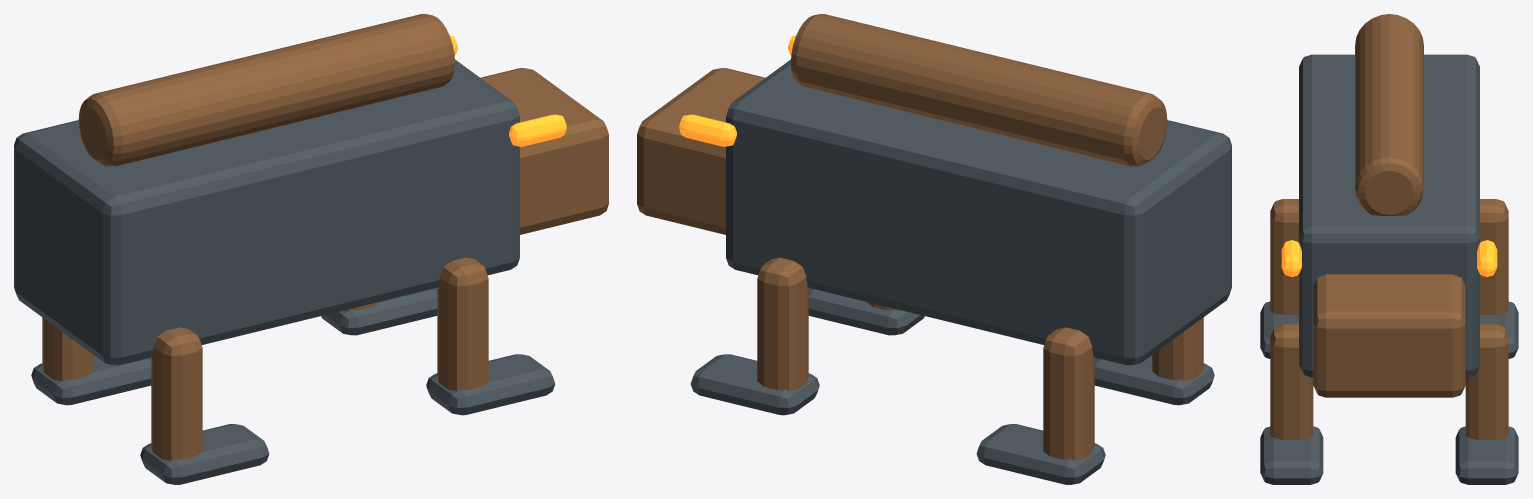
Rendered from mechanical_hound.glb.
3 renders of one model, left to right at view 1: azimuth 30°, elevation 25°; view 2: azimuth 150°, elevation 25°; view 3: azimuth 270°, elevation 25°, orthographic. The views are drawn at different scales.
Visible parts, largest first — view 1: Dog chassis, Spine pressure, Dog jaw, Leg.002, Leg.003, Claw.002, Claw.003, Claw, Claw.001, Leg, Dog eye.001; view 2: Dog chassis, Spine pressure, Dog jaw, Leg, Leg.001, Claw, Claw.001, Claw.002, Claw.003, Leg.002, Dog eye; view 3: Dog chassis, Dog jaw, Spine pressure, Leg.001, Leg.003, Claw.001, Claw.003, Leg, Leg.002, Claw, Claw.002, Dog eye (+1 smaller).
Part boxes in pixels (left/top/right/bottom): Dog chassis: left=14, top=59, right=519, bottom=365; Spine pressure: left=78, top=14, right=454, bottom=166; Dog jaw: left=480, top=68, right=608, bottom=234; Leg.002: left=151, top=327, right=202, bottom=460; Leg.003: left=437, top=257, right=488, bottom=390; Claw.002: left=140, top=424, right=269, bottom=484; Claw.003: left=426, top=354, right=555, bottom=415; Claw: left=31, top=355, right=151, bottom=405; Claw.001: left=321, top=288, right=437, bottom=335; Leg: left=42, top=317, right=93, bottom=380; Dog eye.001: left=509, top=114, right=566, bottom=146; Dog chassis: left=726, top=59, right=1231, bottom=365; Spine pressure: left=791, top=14, right=1167, bottom=166; Dog jaw: left=637, top=68, right=765, bottom=234; Leg: left=1043, top=327, right=1094, bottom=460; Leg.001: left=757, top=257, right=808, bottom=390; Claw: left=976, top=424, right=1105, bottom=484; Claw.001: left=690, top=354, right=819, bottom=415; Claw.002: left=1094, top=355, right=1214, bottom=405; Claw.003: left=808, top=288, right=924, bottom=335; Leg.002: left=1152, top=317, right=1203, bottom=380; Dog eye: left=679, top=114, right=736, bottom=146; Dog chassis: left=1299, top=54, right=1479, bottom=377; Dog jaw: left=1313, top=274, right=1465, bottom=397; Spine pressure: left=1355, top=14, right=1423, bottom=215; Leg.001: left=1465, top=324, right=1508, bottom=439; Leg.003: left=1270, top=324, right=1313, bottom=439; Claw.001: left=1455, top=426, right=1518, bottom=484; Claw.003: left=1260, top=426, right=1323, bottom=484; Leg: left=1480, top=199, right=1508, bottom=314; Leg.002: left=1270, top=199, right=1298, bottom=314; Claw: left=1480, top=301, right=1518, bottom=358; Claw.002: left=1260, top=301, right=1298, bottom=358; Dog eye: left=1477, top=240, right=1497, bottom=276.
Size of the model in its own units: 1.85 by 1.19 by 0.9.
